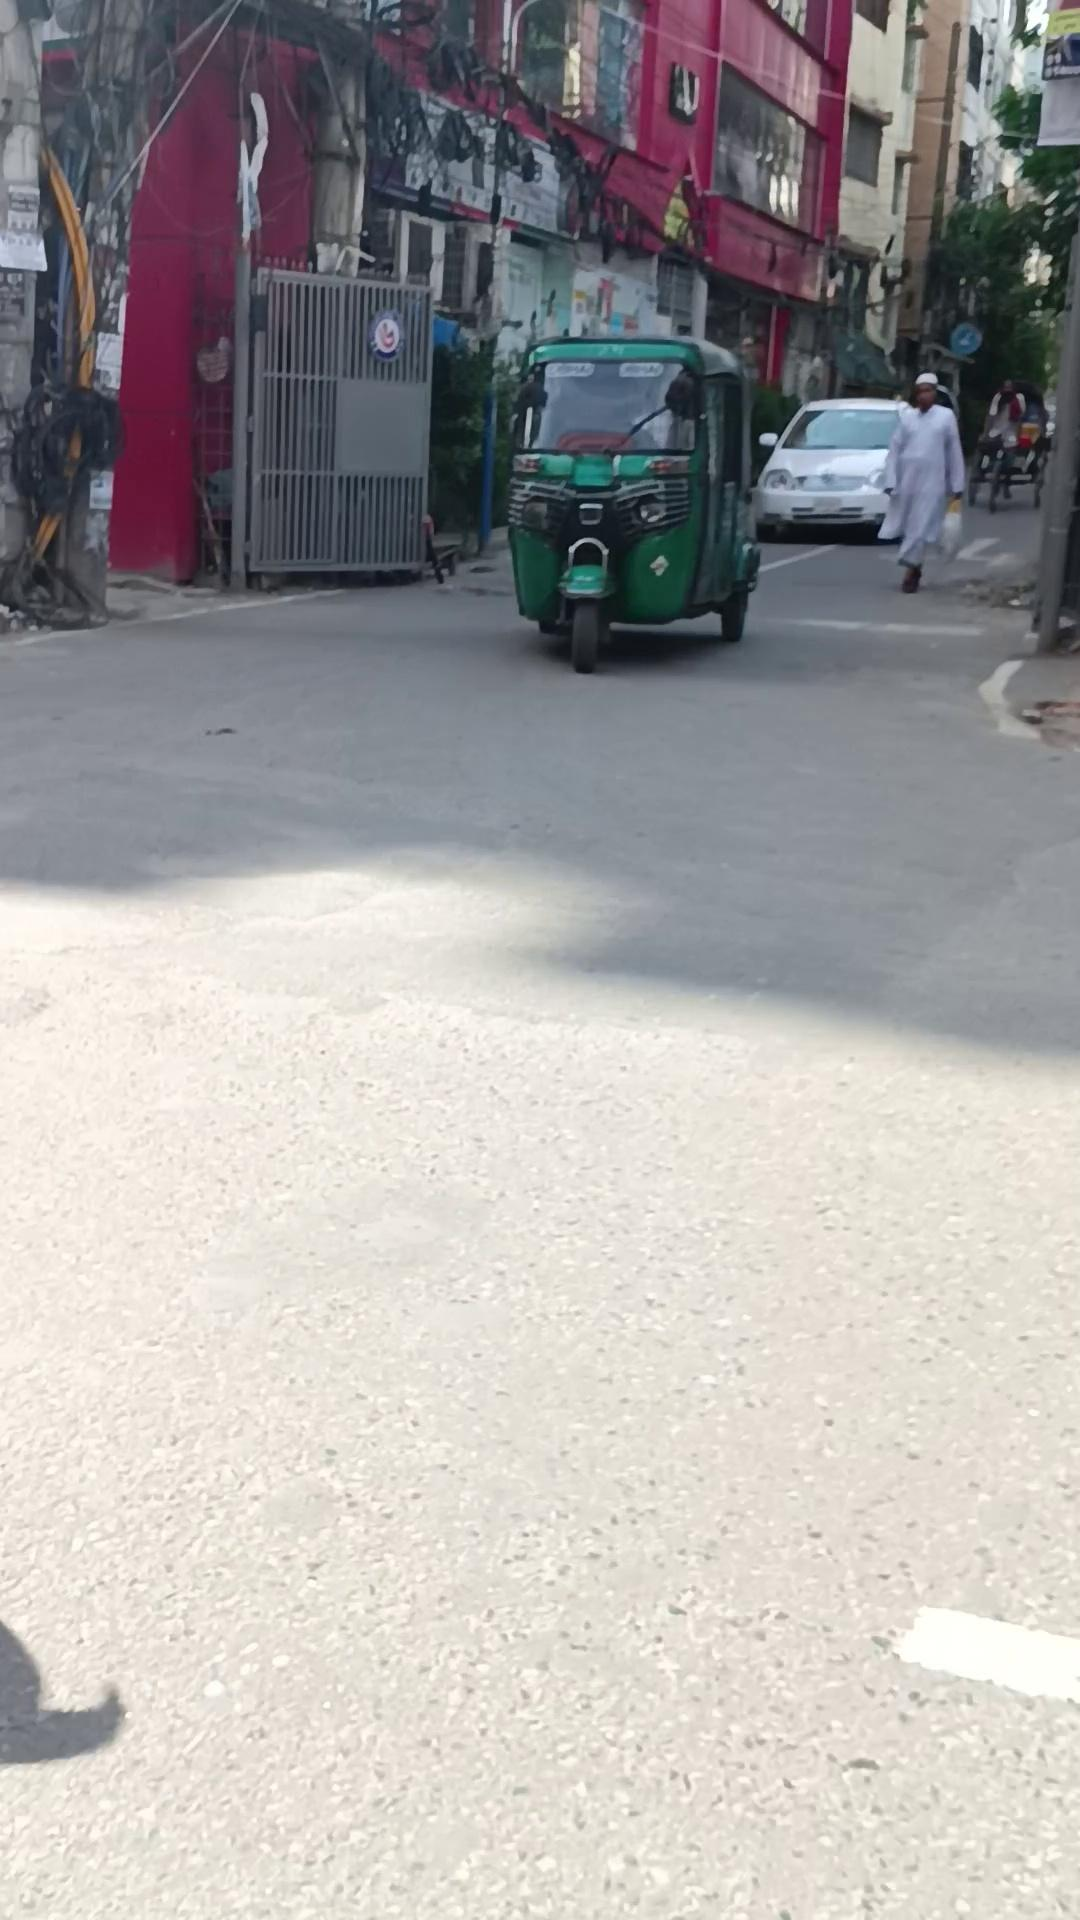Bollard: (752, 396, 911, 543)
Broken-road: (18, 541, 477, 644), (988, 655, 1080, 745), (976, 655, 1038, 740)
Curb: (876, 371, 967, 593)
Muddy road: (497, 338, 756, 680)
Obstacle: (105, 18, 327, 585)
